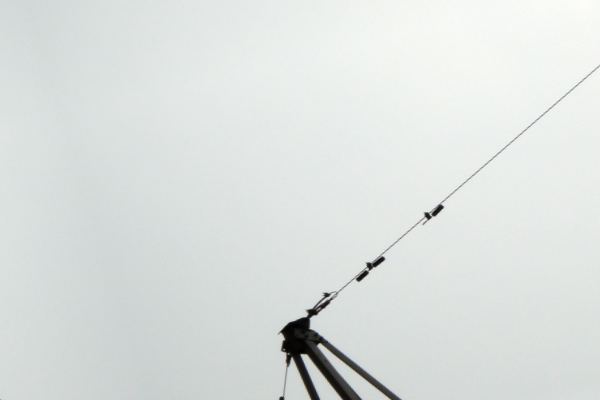damper: (355, 256, 386, 282)
damper_defect: (419, 204, 445, 227)
